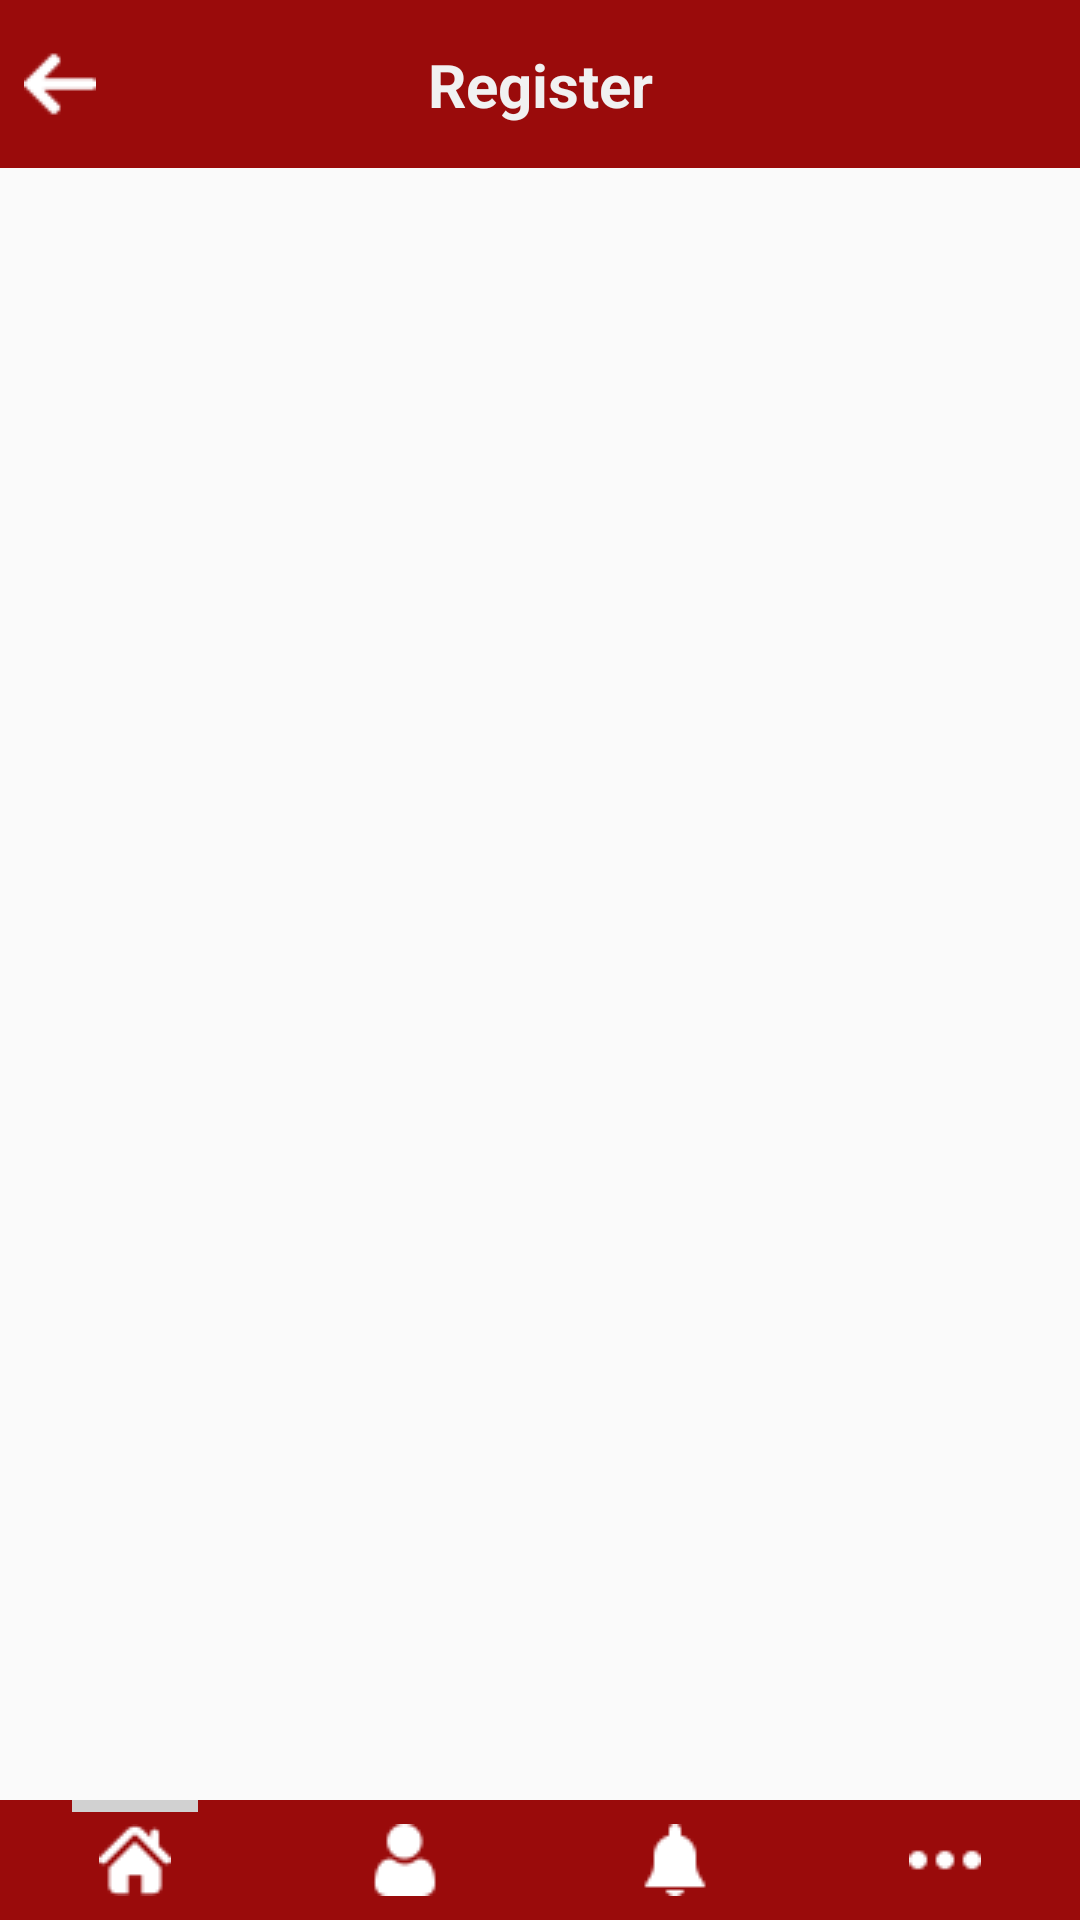

Icons on this 1080w x 1920h Android screen, each with the point to tap as point (x, y):
arrow left: point (60, 84)
